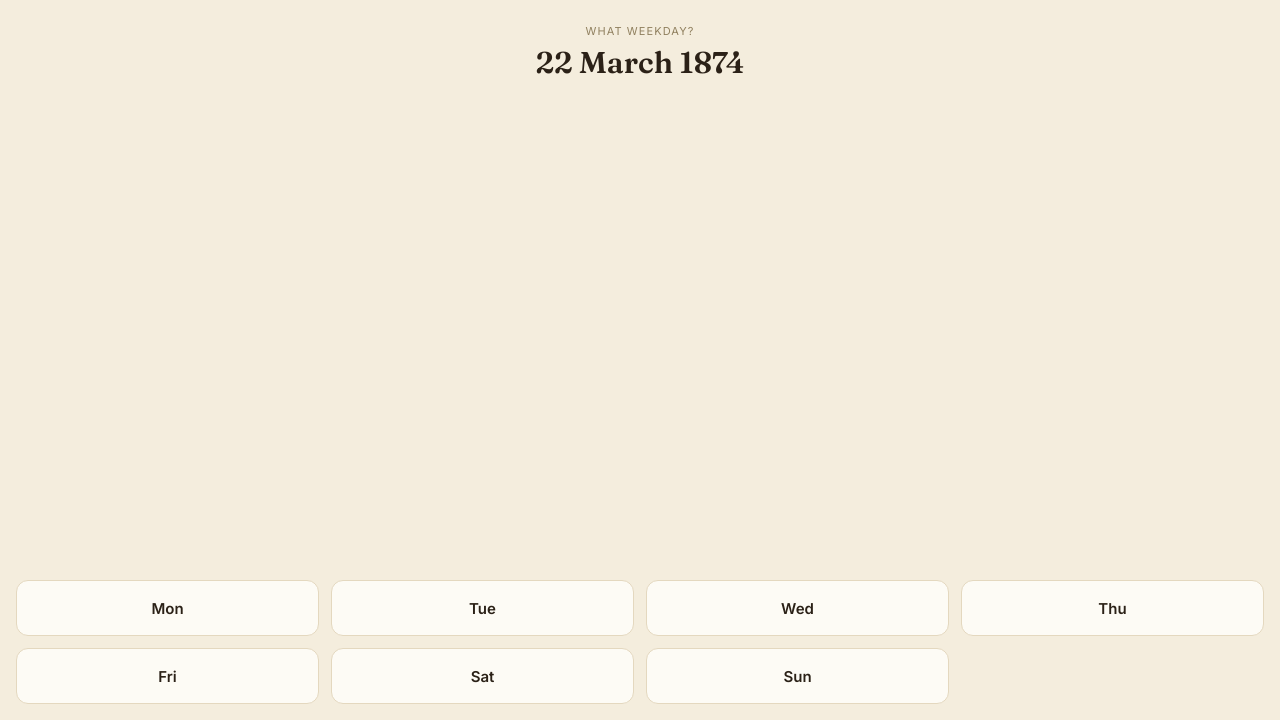
it: QuickDrill — Walk me through it (#11) › reveals a walkthrough for the missed date after a wrong answer, matching the engine
Step 1. Click the button with aria-label "Monday" → (168, 608), box [16,580,319,636]
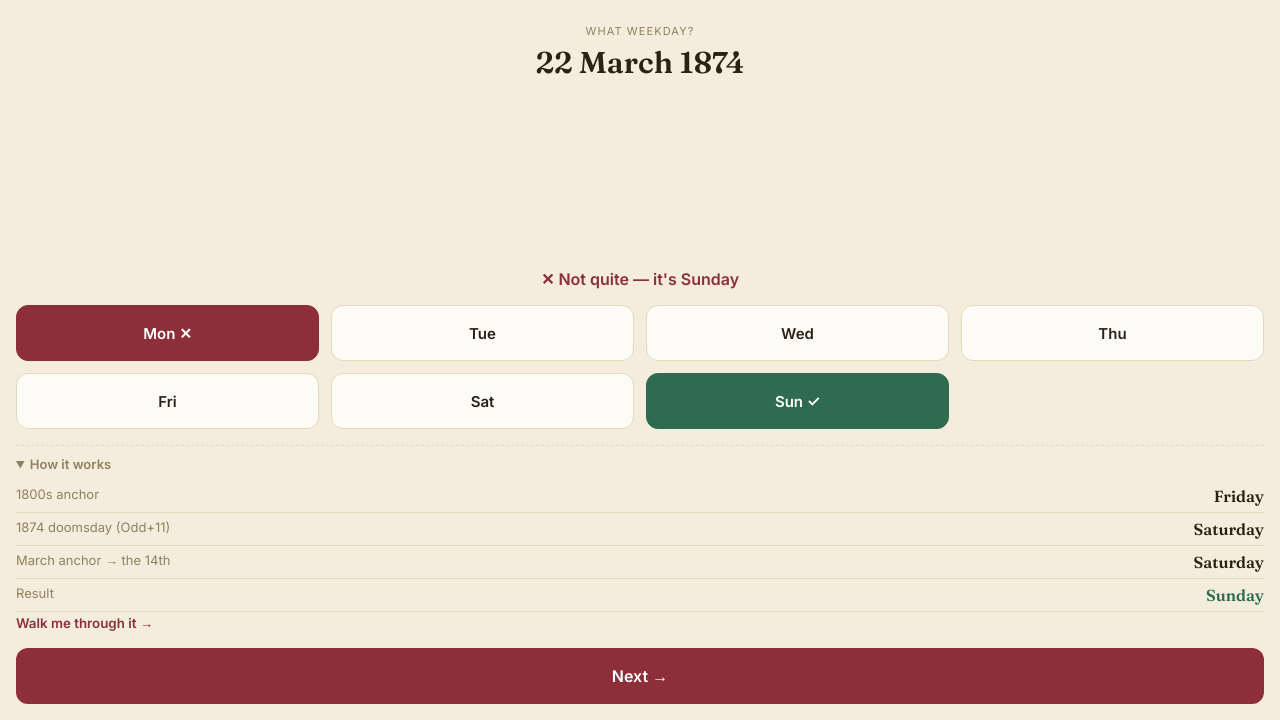
Step 2. Click the button "Walk me through it →" → (85, 623), box [16,615,153,631]
(page scrolled)
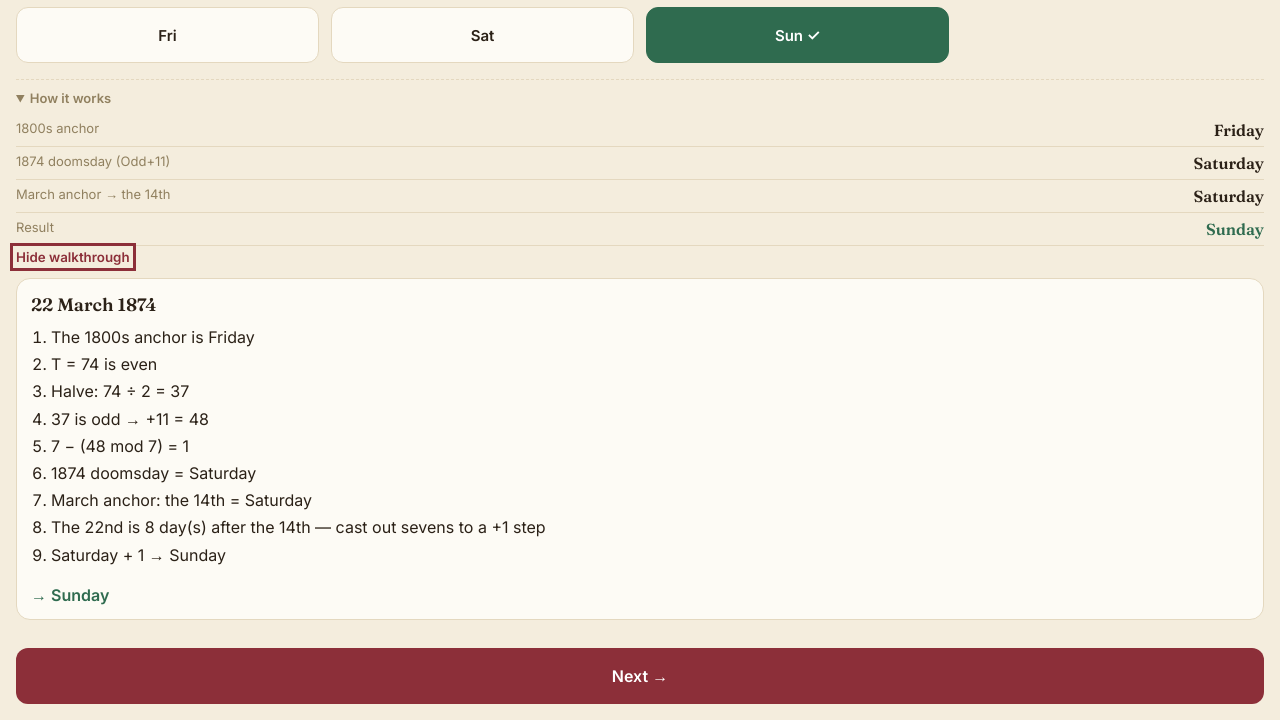
Expected: the list item "cast out sevens" is shown, [51,517,546,537]
Expected: the text "→ Sunday" is shown, [31,585,109,605]
